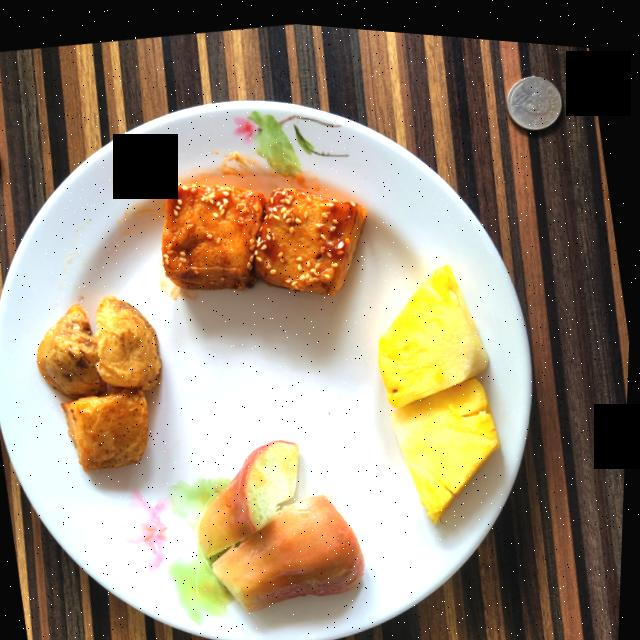coin: (506, 66, 562, 121)
creamy tofu: (163, 179, 367, 290)
fried potato: (39, 293, 164, 469)
pineapple: (380, 257, 503, 514)
